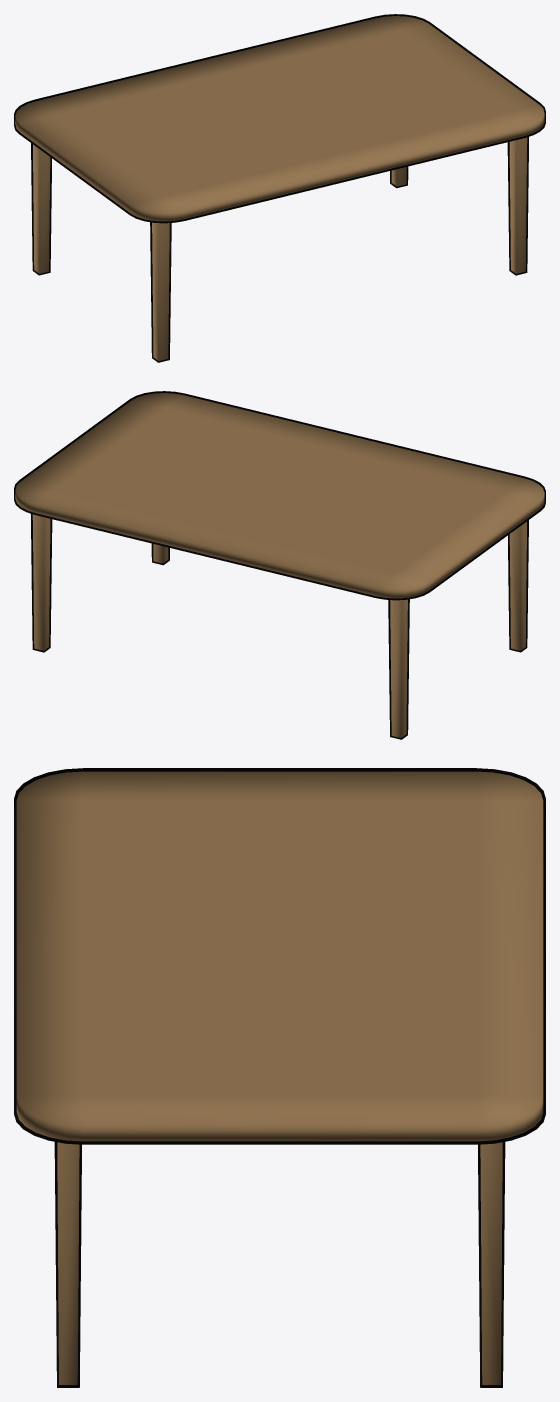
Rendered from Mesa3.fbx.
The picture shows the model from 3 angles, top to bottom: view 1: azimuth 30°, elevation 25°; view 2: azimuth 150°, elevation 25°; view 3: azimuth 270°, elevation 25°; orthographic projection. The views are drawn at different scales.
Visible parts, largest first — view 1: Table; view 2: Table; view 3: Table.
Part boxes in pixels (<box>): Table: <box>14,14,545,362</box>; Table: <box>14,391,545,739</box>; Table: <box>14,768,545,1387</box>.
Bounding box in the file's own units: 234 × 86.73 × 148.
